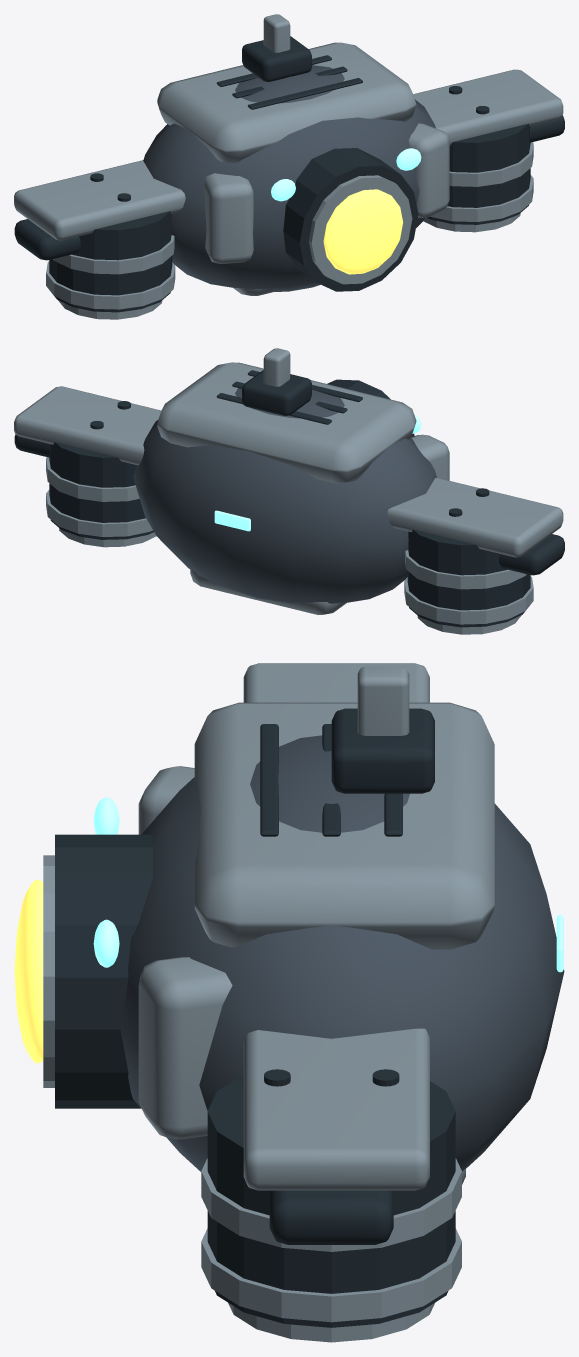
Rendered from Drone.fbx.
The picture shows the model from 3 angles, top to bottom: view 1: azimuth 30°, elevation 25°; view 2: azimuth 150°, elevation 25°; view 3: azimuth 270°, elevation 25°; orthographic projection. The views are drawn at different scales.
Parts seen in each view (by area): view 1: Drone_Steel, Drone_Dark, Drone_Graphite, Drone_Amber, Drone_Cyan; view 2: Drone_Steel, Drone_Graphite, Drone_Dark, Drone_Cyan; view 3: Drone_Steel, Drone_Graphite, Drone_Dark, Drone_Amber, Drone_Cyan.
Part boxes in pixels (x1,y1,x2,y2): Drone_Steel: (14, 14, 563, 319); Drone_Dark: (14, 36, 564, 312); Drone_Graphite: (143, 65, 435, 291); Drone_Amber: (323, 189, 403, 274); Drone_Cyan: (271, 148, 421, 201); Drone_Steel: (14, 348, 563, 634); Drone_Graphite: (133, 388, 436, 603); Drone_Dark: (14, 370, 564, 627); Drone_Cyan: (214, 414, 421, 531); Drone_Steel: (43, 663, 494, 1342); Drone_Graphite: (120, 735, 564, 1171); Drone_Dark: (55, 708, 455, 1327); Drone_Amber: (14, 879, 43, 1063); Drone_Cyan: (93, 797, 563, 972).
Size of the model in its own units: 235 by 107 by 106.
